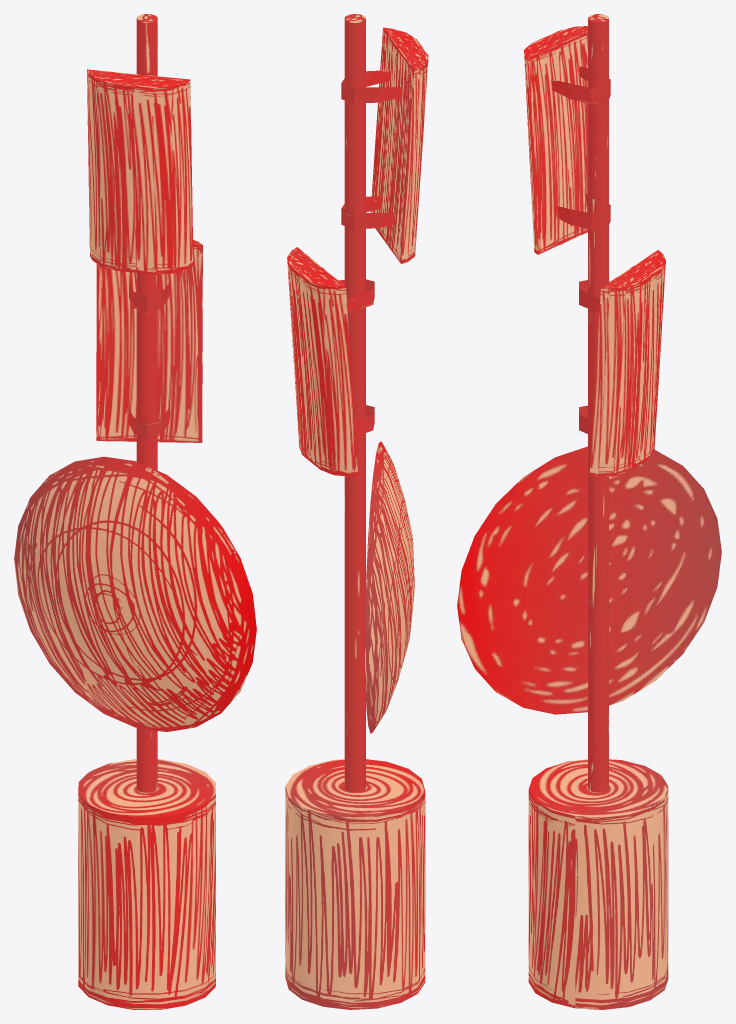
The model's file is antenne_2024.glb.
The picture shows the model from 3 angles, left to right: view 1: azimuth 30°, elevation 25°; view 2: azimuth 150°, elevation 25°; view 3: azimuth 270°, elevation 25°; orthographic projection.
Visible parts, largest first — view 1: EVERESTLINK.BASE; view 2: EVERESTLINK.BASE; view 3: EVERESTLINK.BASE.
Boxes of the visible parts, box(x1,y1,x2,y2) form: EVERESTLINK.BASE: box(14, 14, 256, 1009); EVERESTLINK.BASE: box(285, 14, 428, 1009); EVERESTLINK.BASE: box(457, 14, 721, 1009).
Bounding box in the file's own units: 0.7281 × 5 × 1.25.
1 material, 1 textured.
